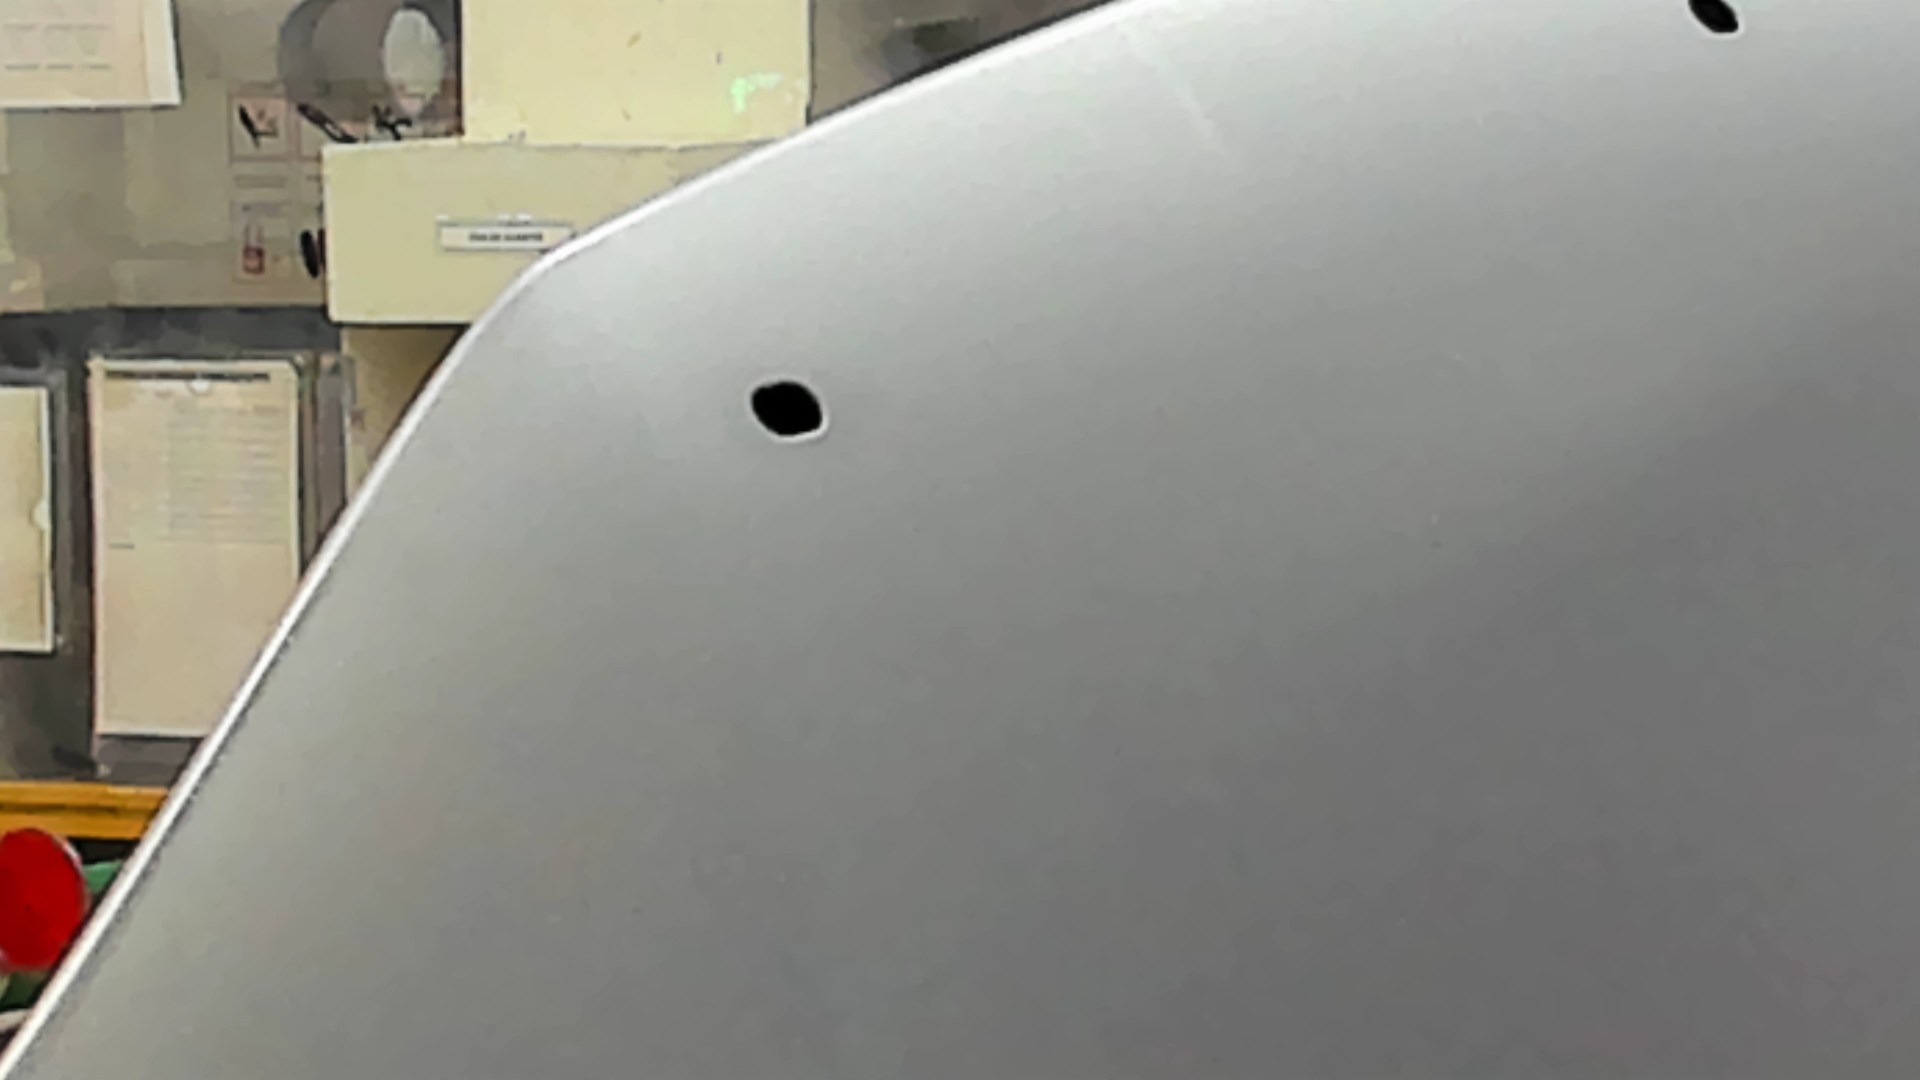chico: (738, 373, 841, 446), (1673, 1, 1751, 41)
